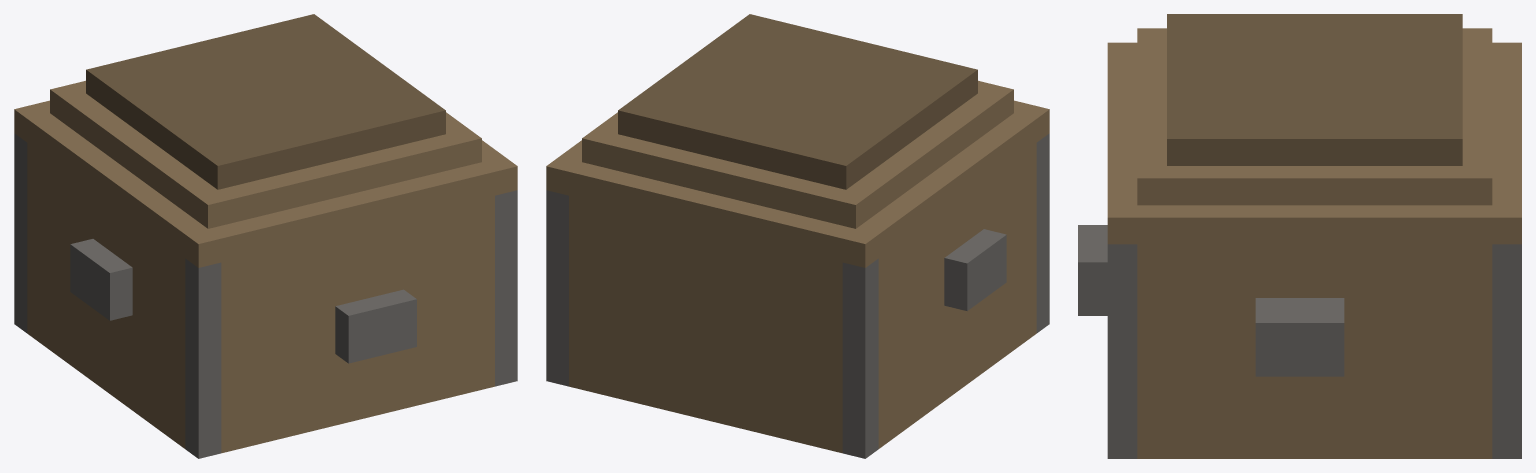
The model's file is barril_roble_01.glb.
The picture shows the model from 3 angles, left to right: view 1: azimuth 30°, elevation 25°; view 2: azimuth 150°, elevation 25°; view 3: azimuth 270°, elevation 25°; orthographic projection. The views are drawn at different scales.
Parts seen in each view (by area): view 1: barril_roble; view 2: barril_roble; view 3: barril_roble.
Boxes of the visible parts, bbox=[...] form: barril_roble: bbox=[14, 14, 517, 458]; barril_roble: bbox=[546, 14, 1049, 458]; barril_roble: bbox=[1078, 14, 1521, 458].
Bounding box in the file's own units: 1.21 × 0.7857 × 1.07.
